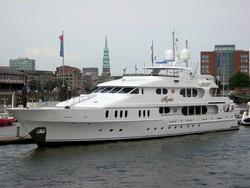yacht: (6, 44, 240, 149)
